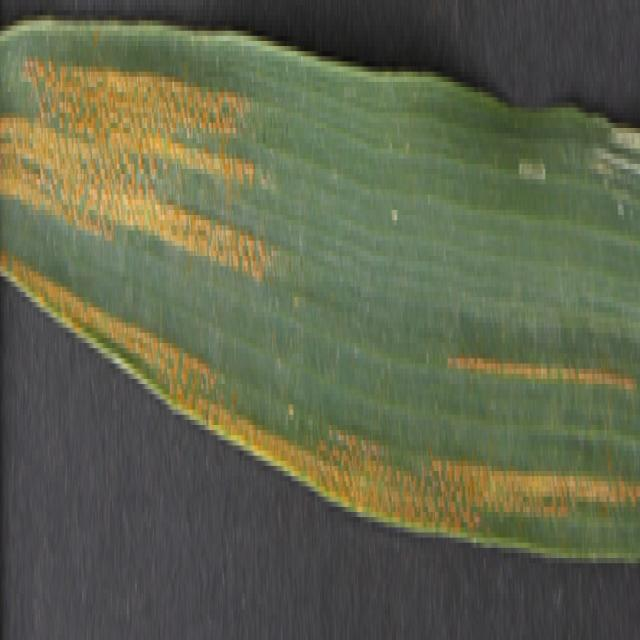leaf rust: (1, 31, 637, 568)
